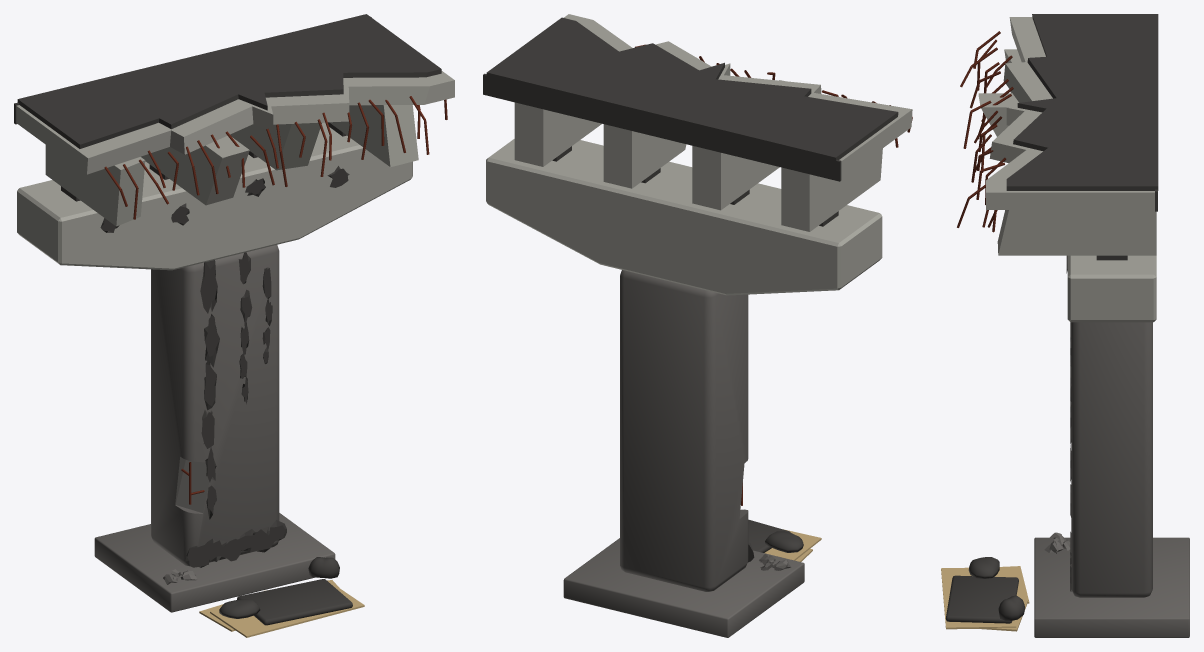
The model's file is pier.glb.
3 renders of one model, left to right at view 1: azimuth 30°, elevation 25°; view 2: azimuth 150°, elevation 25°; view 3: azimuth 270°, elevation 25°, orthographic.
Visible parts, largest first — view 1: column, cap, asphalt, deck, footing, girder_0, girder_1, girder_3, rebar, blanket, girder_2, box_flat_2 (+2 smaller); view 2: column, cap, asphalt, footing, deck_edge, girder_0, deck, girder_3, girder_1, girder_2, blanket, bundle_0; view 3: asphalt, column, footing, deck, girder_3, cap, blanket, rebar, box_flat_2, girder_1, bundle_0, bundle_1.
Part boxes in pixels (x1,y1,x2,y2): column: (151,245,279,566); cap: (17,122,412,270); asphalt: (17,14,441,148); deck: (16,71,454,174); footing: (94,513,335,612); girder_0: (45,145,145,226); girder_1: (141,136,249,205); girder_3: (329,105,418,167); rebar: (104,96,447,219); blanket: (237,579,352,625); girder_2: (230,122,321,170); box_flat_2: (210,580,364,637); column: (620,270,748,591); cap: (486,139,882,295); asphalt: (486,17,898,162); footing: (563,538,804,637); deck_edge: (483,73,841,181); girder_0: (781,148,882,231); deck: (564,14,912,178); girder_3: (514,102,601,166); girder_1: (692,80,784,210); girder_2: (603,124,686,188); blanket: (748,519,790,552); bundle_0: (765,531,803,552); asphalt: (1006,14,1158,190); column: (1071,322,1152,597); footing: (1034,537,1189,637); deck: (986,17,1154,209); girder_3: (997,210,1156,255); cap: (1067,255,1156,322); blanket: (946,575,1018,623); rebar: (957,31,1013,232); box_flat_2: (941,567,1016,629); girder_1: (978,93,1018,136); bundle_0: (968,557,999,578); bundle_1: (998,595,1024,620).
Bounding box in the file's own units: 5.62 × 7.41 × 3.36.
